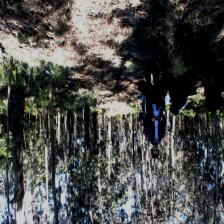trunktrack_idkeyframe: (6, 89, 24, 180), (48, 88, 55, 168), (214, 112, 218, 160)
